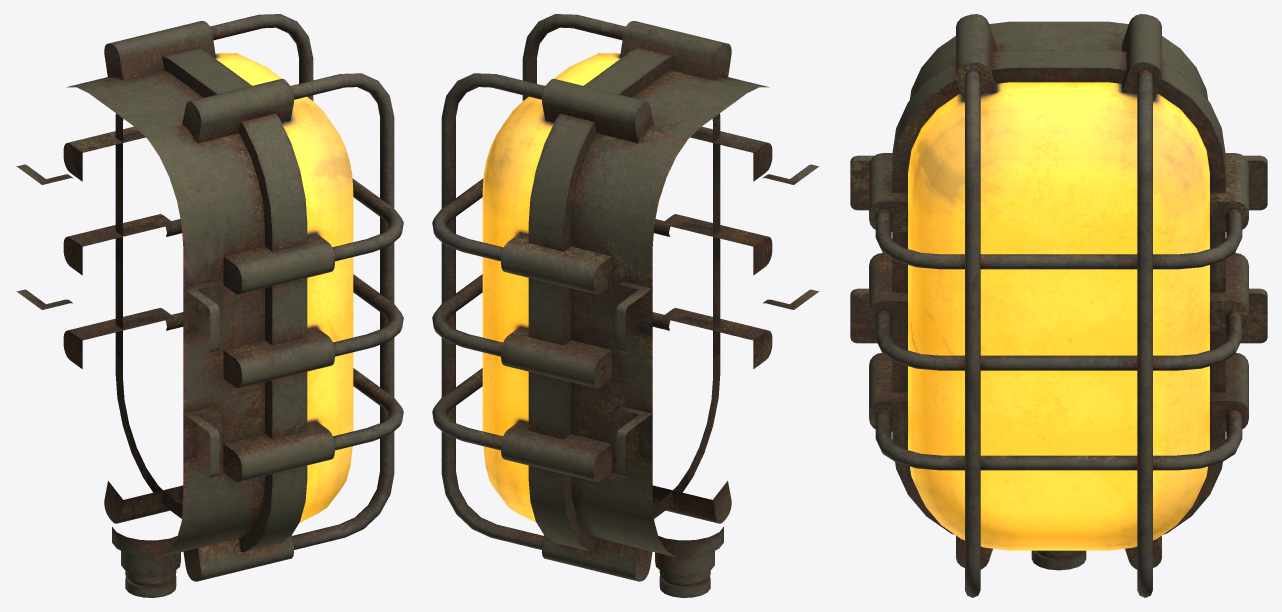
Rendered from SM_LightWall01.glb.
3 renders of one model, left to right at view 1: azimuth 30°, elevation 25°; view 2: azimuth 150°, elevation 25°; view 3: azimuth 270°, elevation 25°, orthographic. The views are drawn at different scales.
Visible parts, largest first — view 1: SM_LightWall01; view 2: SM_LightWall01; view 3: SM_LightWall01.
Part boxes in pixels (x1,y1,x2,y2): SM_LightWall01: (16, 14, 403, 597); SM_LightWall01: (432, 14, 819, 597); SM_LightWall01: (850, 14, 1267, 597).
Bounding box in the file's own units: 0.1861 × 0.3791 × 0.2628.
Materials: 1 (1 with a texture image).
